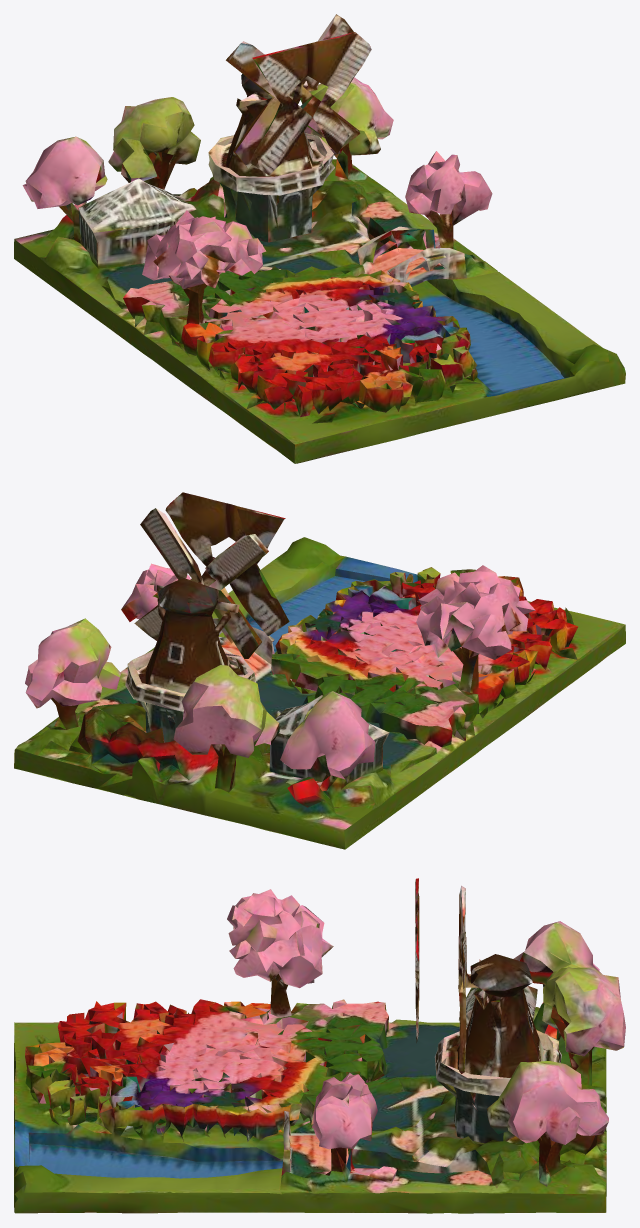
File: keukenhof.glb
3 renders of one model, top to bottom at view 1: azimuth 30°, elevation 25°; view 2: azimuth 150°, elevation 25°; view 3: azimuth 270°, elevation 25°, orthographic. The views are drawn at different scales.
Visible parts, largest first — view 1: logan-textured.obj; view 2: logan-textured.obj; view 3: logan-textured.obj.
Boxes of the visible parts, box(x1,y1,x2,y2) form: logan-textured.obj: box(14, 14, 625, 463); logan-textured.obj: box(14, 492, 625, 849); logan-textured.obj: box(14, 878, 625, 1213).
Bounding box in the file's own units: 0.7217 × 0.4388 × 1.
Materials: 1 (1 with a texture image).
